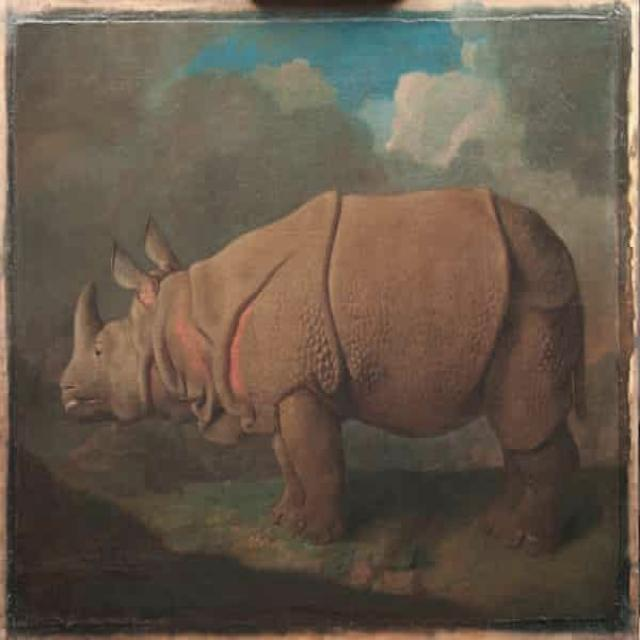rhinoceros: (61, 188, 585, 545)
